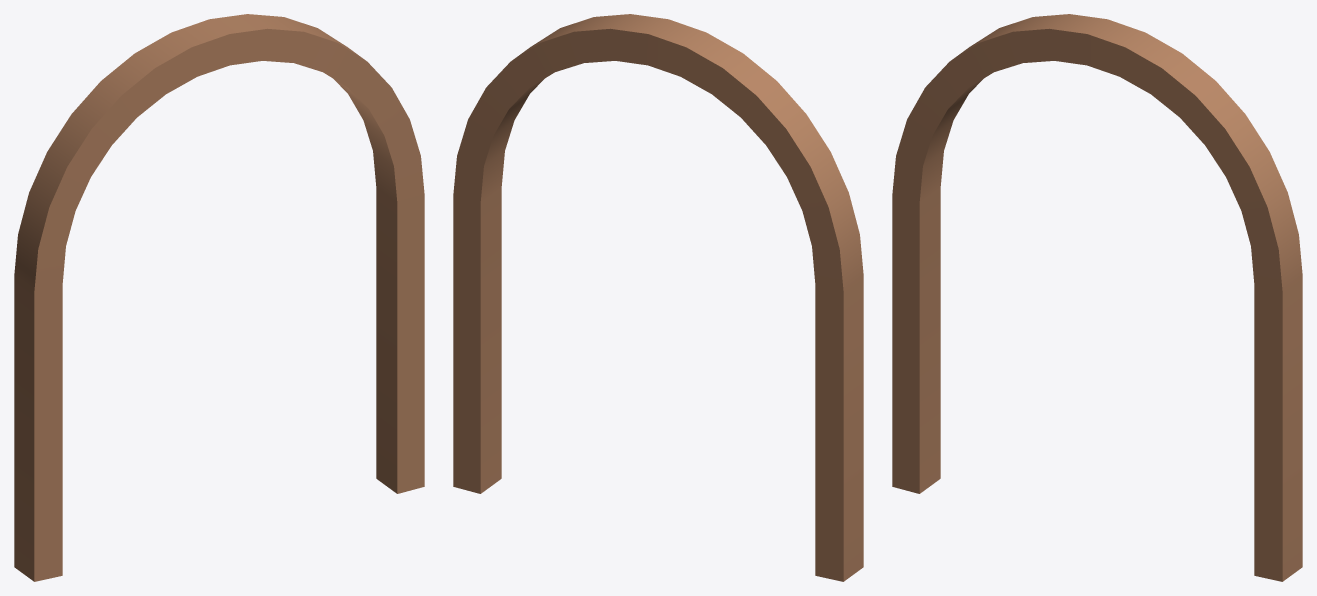
File: quaternius-sushi-restaurant-environment-arch.glb
The picture shows the model from 3 angles, left to right: view 1: azimuth 30°, elevation 25°; view 2: azimuth 150°, elevation 25°; view 3: azimuth 330°, elevation 25°; orthographic projection.
Parts seen in each view (by area): view 1: Environment_Arch; view 2: Environment_Arch; view 3: Environment_Arch.
Part boxes in pixels (left/top/right/bottom): Environment_Arch: left=14, top=14, right=424, bottom=581; Environment_Arch: left=453, top=14, right=863, bottom=581; Environment_Arch: left=892, top=14, right=1302, bottom=581.
Size of the model in its own units: 6.14 by 7.53 by 0.5733.
1 material, 1 textured.
